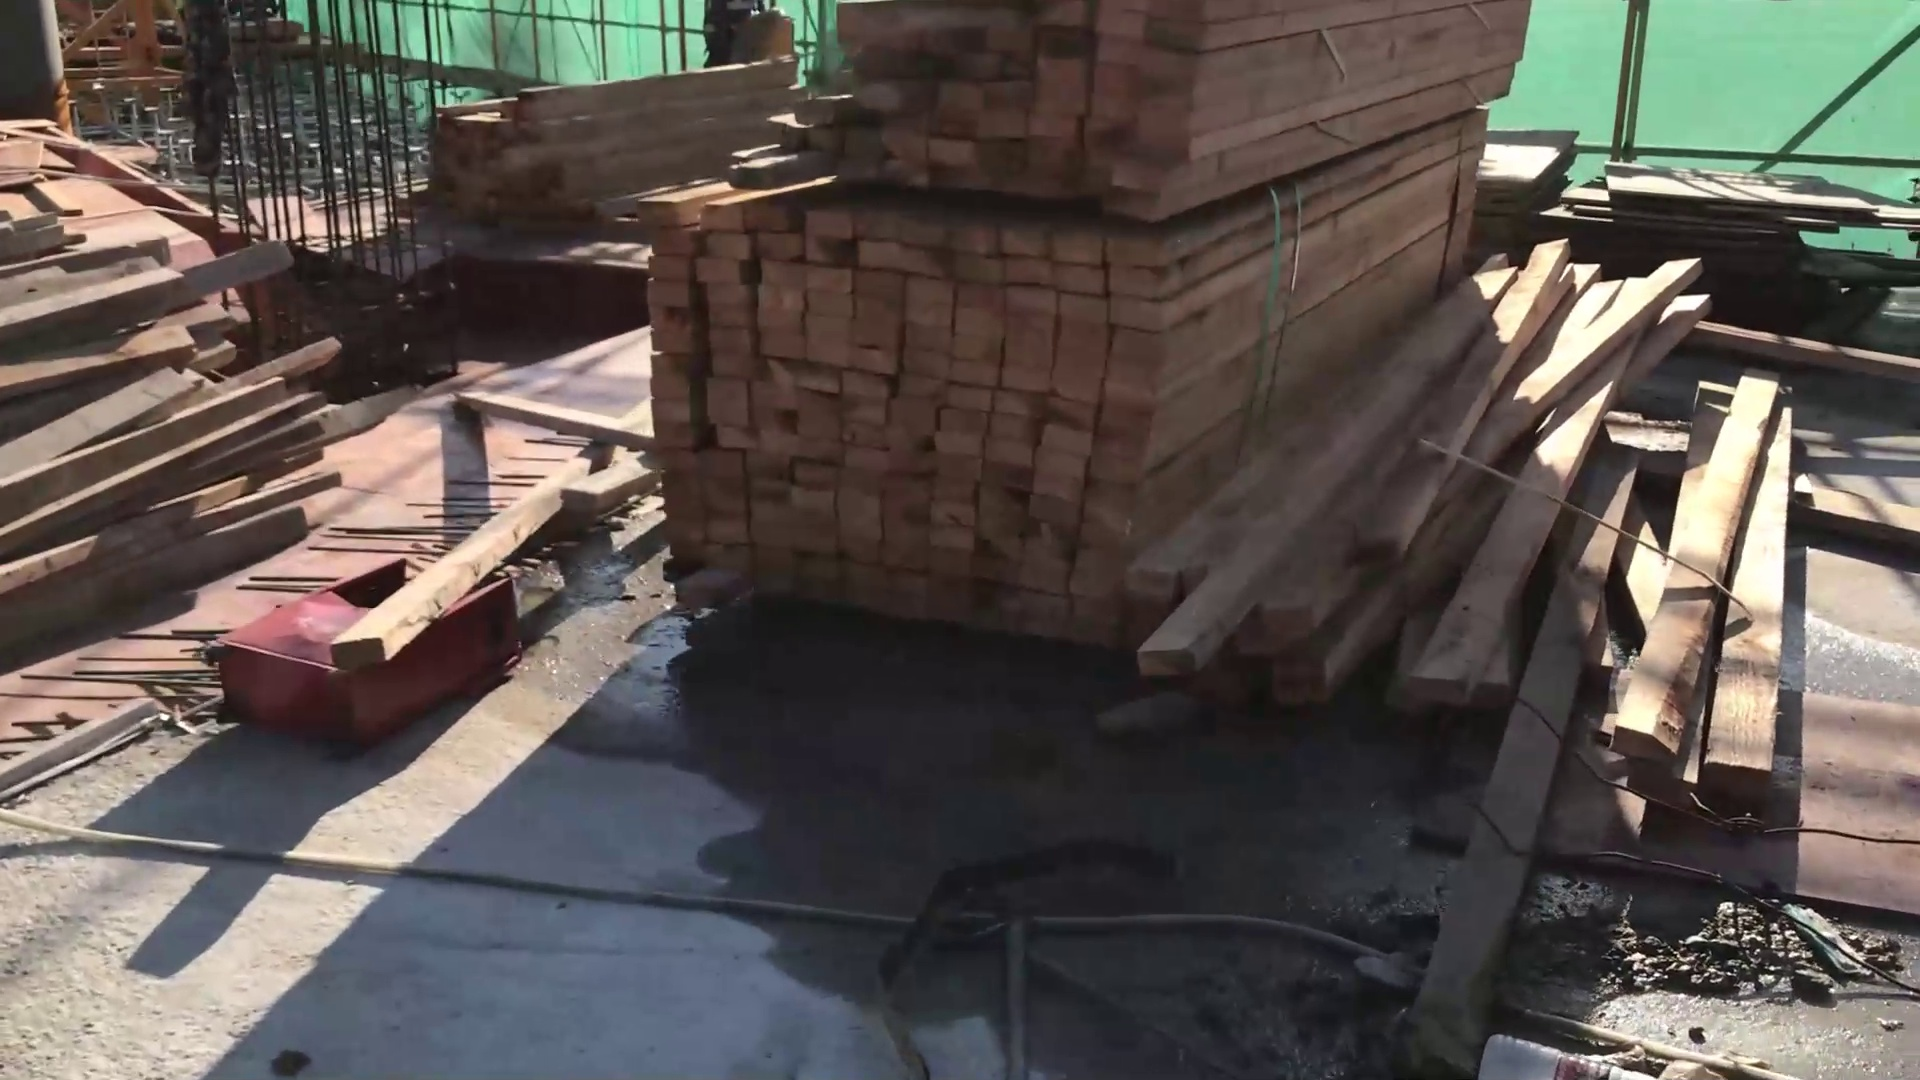wood: (624, 156, 1536, 698), (717, 1, 1538, 219)
